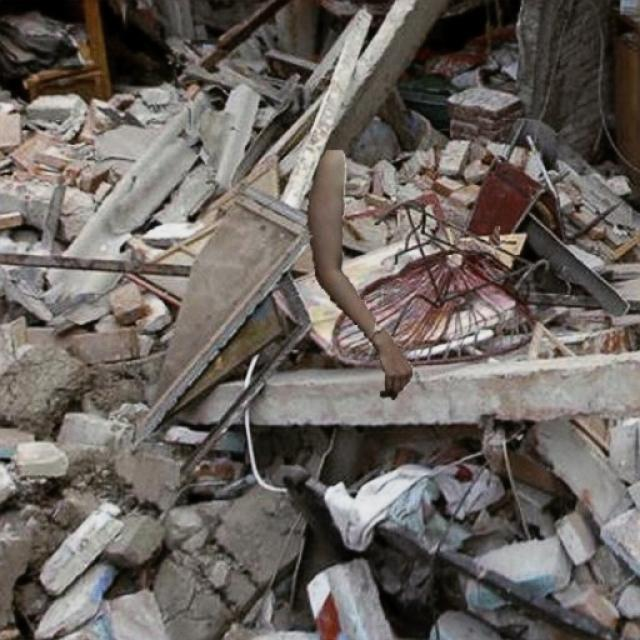Person in Rubble: (306, 150, 499, 399)
